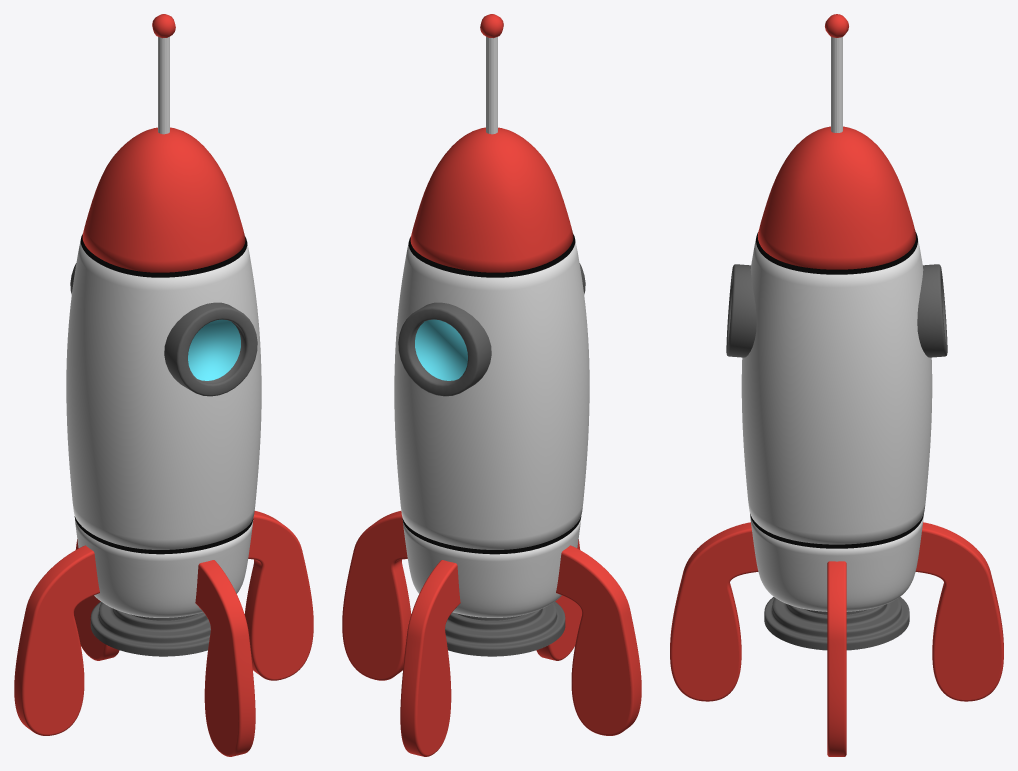
The model's file is uploads_files_4081881_rocket_2.glb.
The picture shows the model from 3 angles, left to right: view 1: azimuth 30°, elevation 25°; view 2: azimuth 150°, elevation 25°; view 3: azimuth 270°, elevation 25°; orthographic projection.
Parts seen in each view (by area): view 1: Cube, BezierCircle.002, BezierCircle.003, BezierCircle, Cylinder.002, BezierCircle.001, Cylinder.001; view 2: Cube, BezierCircle.002, BezierCircle.003, BezierCircle.001, Cylinder, BezierCircle, Cylinder.001; view 3: Cube, BezierCircle, BezierCircle.001, BezierCircle.003, Cylinder.002, Cylinder, Cylinder.001.
Part boxes in pixels (left/top/right/bottom): Cube: left=66, top=127, right=261, bottom=656; BezierCircle.002: left=14, top=545, right=99, bottom=735; BezierCircle.003: left=244, top=511, right=313, bottom=680; BezierCircle: left=195, top=560, right=255, bottom=756; Cylinder.002: left=164, top=302, right=257, bottom=396; BezierCircle.001: left=74, top=539, right=119, bottom=660; Cylinder.001: left=158, top=36, right=169, bottom=134; Cube: left=394, top=127, right=589, bottom=656; BezierCircle.002: left=556, top=545, right=641, bottom=735; BezierCircle.003: left=342, top=511, right=411, bottom=680; BezierCircle.001: left=400, top=560, right=460, bottom=756; Cylinder: left=398, top=302, right=491, bottom=396; BezierCircle: left=536, top=539, right=581, bottom=660; Cylinder.001: left=486, top=36, right=497, bottom=134; Cube: left=741, top=126, right=932, bottom=650; BezierCircle: left=670, top=522, right=758, bottom=701; BezierCircle.001: left=915, top=522, right=1003, bottom=701; BezierCircle.003: left=827, top=561, right=846, bottom=756; Cylinder.002: left=726, top=264, right=756, bottom=357; Cylinder: left=917, top=264, right=947, bottom=357; Cylinder.001: left=831, top=37, right=842, bottom=132.
Size of the model in its own units: 3.83 by 8.64 by 3.83.
